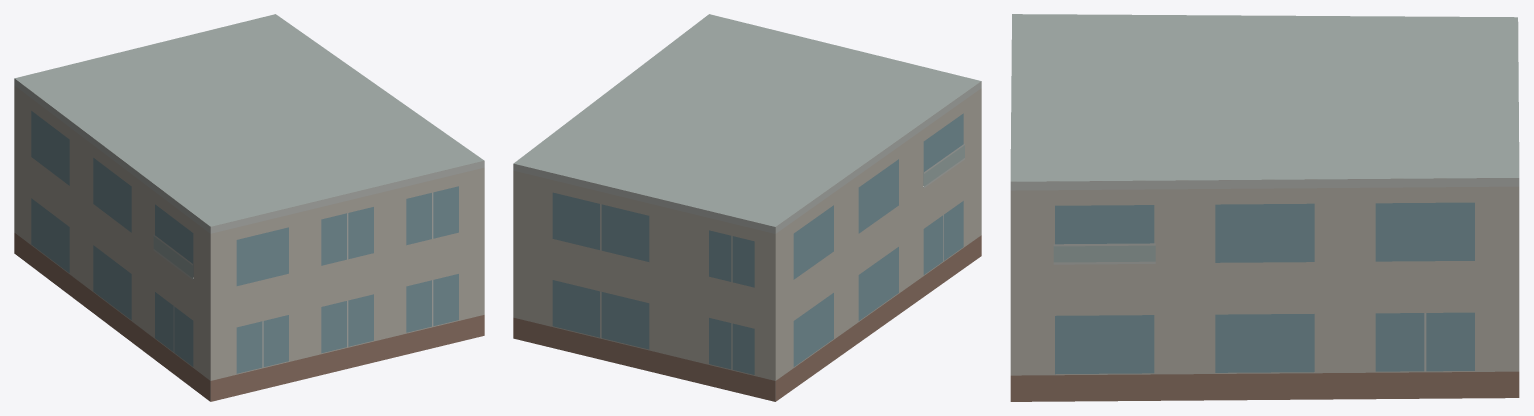
The model's file is survey-upis-32713233.glb.
3 renders of one model, left to right at view 1: azimuth 30°, elevation 25°; view 2: azimuth 150°, elevation 25°; view 3: azimuth 270°, elevation 25°, orthographic. The views are drawn at different scales.
Visible parts, largest first — view 1: survey-upis-32713233.tmp; view 2: survey-upis-32713233.tmp; view 3: survey-upis-32713233.tmp.
Boxes of the visible parts, x1,y1,x2,y2 form: survey-upis-32713233.tmp: [14, 14, 484, 401]; survey-upis-32713233.tmp: [513, 14, 981, 401]; survey-upis-32713233.tmp: [1010, 14, 1519, 401].
Bounding box in the file's own units: 10.01 × 6.1 × 12.79.
